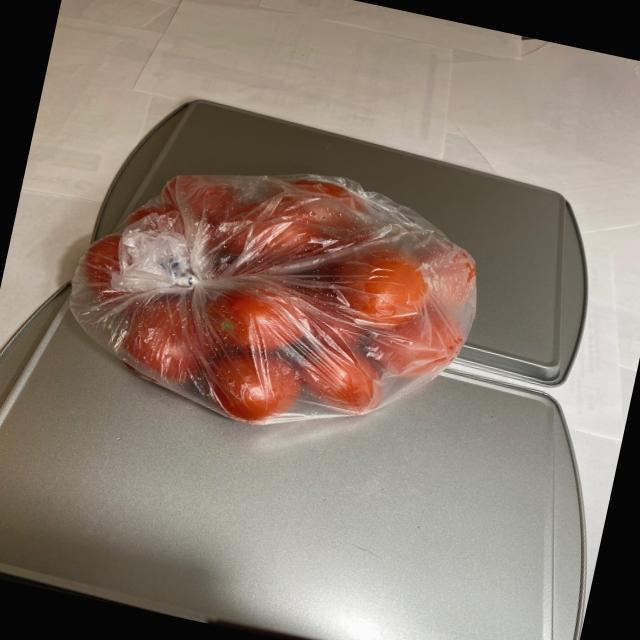tomato: (46, 143, 495, 459)
